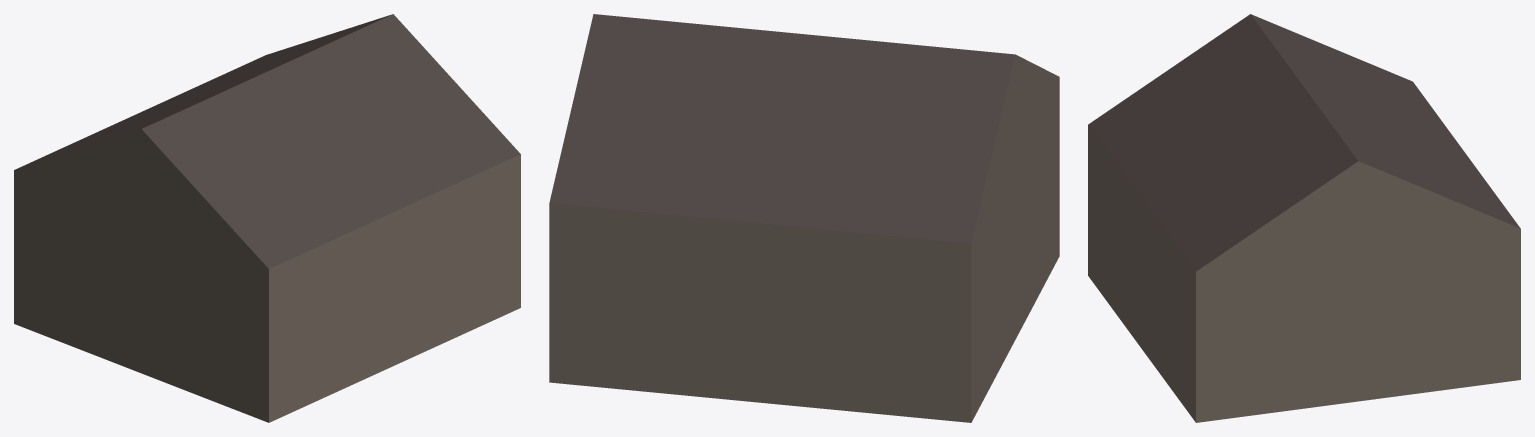
3 views of the same model, side by side, from view 1: azimuth 30°, elevation 25°; view 2: azimuth 150°, elevation 25°; view 3: azimuth 270°, elevation 25° (orthographic). The views are drawn at different scales.
Visible parts, largest first — view 1: HP-w206603275; view 2: HP-w206603275; view 3: HP-w206603275.
Part boxes in pixels (x1,y1,x2,y2): HP-w206603275: (14, 14, 520, 422); HP-w206603275: (549, 14, 1059, 422); HP-w206603275: (1088, 14, 1520, 422).
Bounding box in the file's own units: 24.27 × 14.3 × 23.34.
